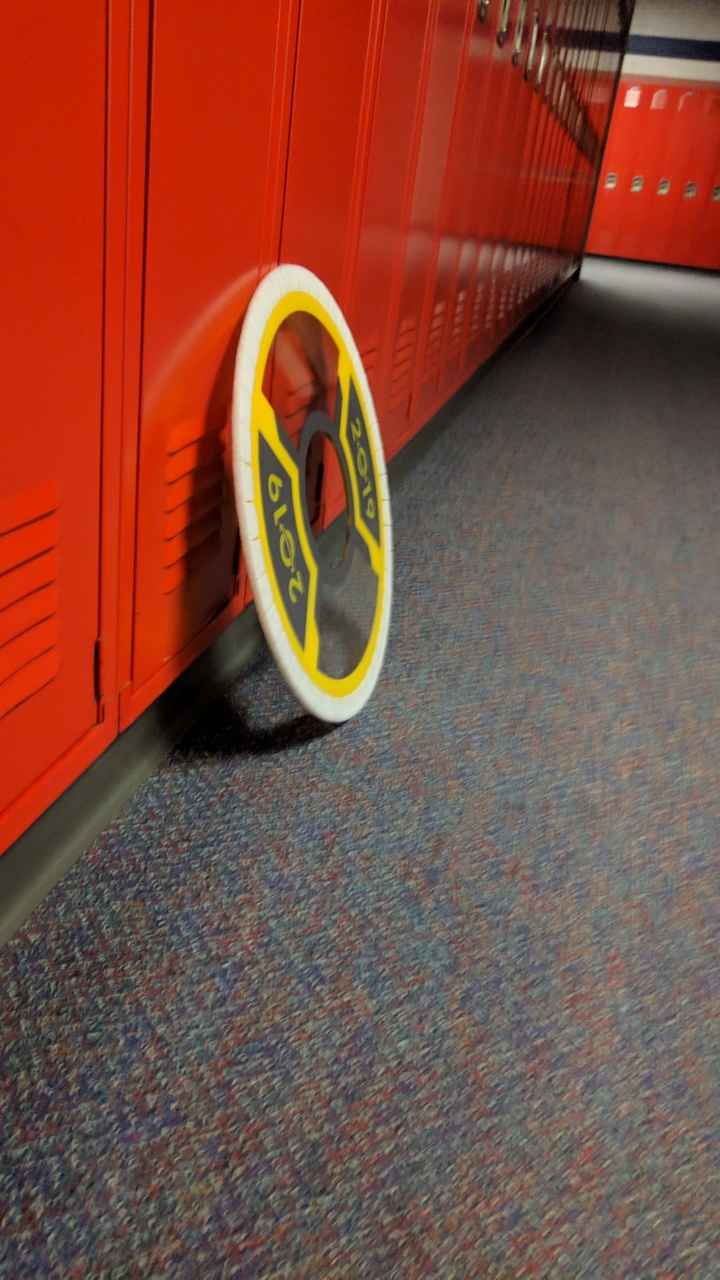hatch_panel: (217, 255, 405, 741)
